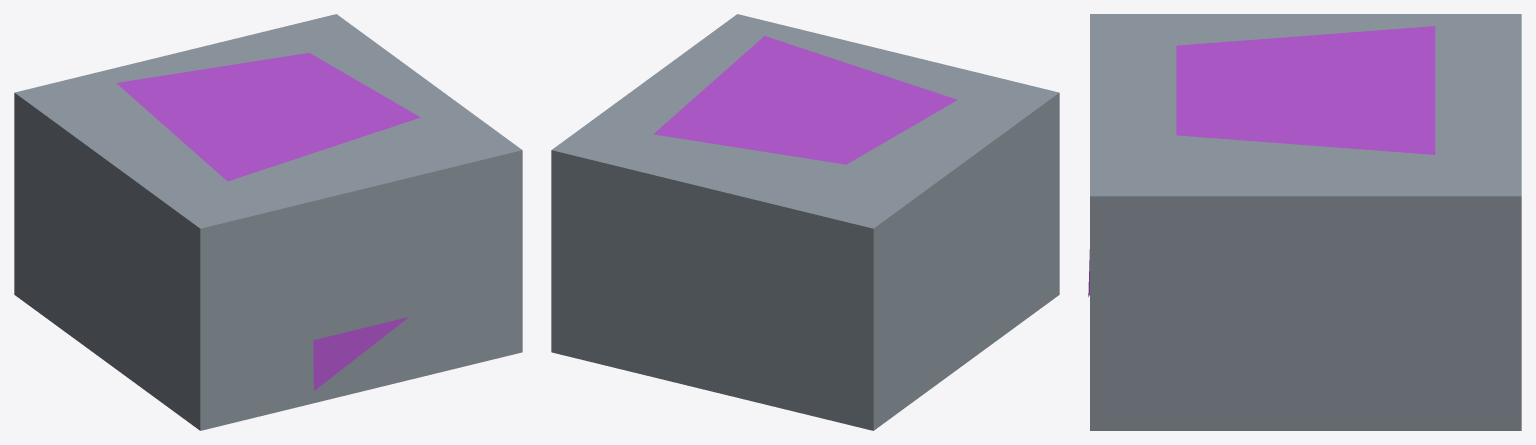
Rendered from CH_ConYard_LOD1.glb.
3 views of the same model, side by side, from view 1: azimuth 30°, elevation 25°; view 2: azimuth 150°, elevation 25°; view 3: azimuth 270°, elevation 25° (orthographic). The views are drawn at different scales.
Visible parts, largest first — view 1: EntranceGate; view 2: EntranceGate; view 3: EntranceGate.
Part boxes in pixels (x1,y1,x2,y2): EntranceGate: (14, 14, 522, 430); EntranceGate: (551, 14, 1059, 430); EntranceGate: (1088, 14, 1521, 430).
Bounding box in the file's own units: 800 × 530 × 803.
